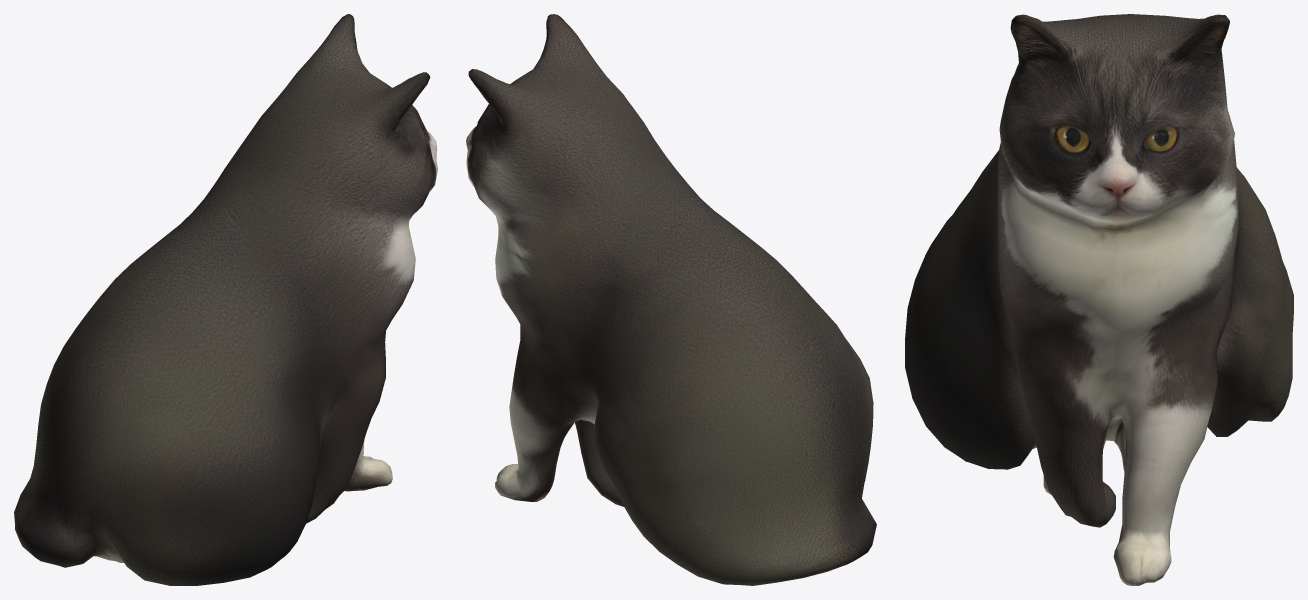
File: test-cat.glb
The picture shows the model from 3 angles, left to right: view 1: azimuth 30°, elevation 25°; view 2: azimuth 150°, elevation 25°; view 3: azimuth 270°, elevation 25°; orthographic projection. The views are drawn at different scales.
Visible parts, largest first — view 1: tripo_node_92700104-44c6-407e-a2a0-b555377651af; view 2: tripo_node_92700104-44c6-407e-a2a0-b555377651af; view 3: tripo_node_92700104-44c6-407e-a2a0-b555377651af.
Boxes of the visible parts, x1,y1,x2,y2 form: tripo_node_92700104-44c6-407e-a2a0-b555377651af: (14,14,437,585); tripo_node_92700104-44c6-407e-a2a0-b555377651af: (466,14,876,585); tripo_node_92700104-44c6-407e-a2a0-b555377651af: (905,14,1293,585).
Size of the model in its own units: 0.9512 by 0.998 by 0.6191.
1 material, 1 textured.
